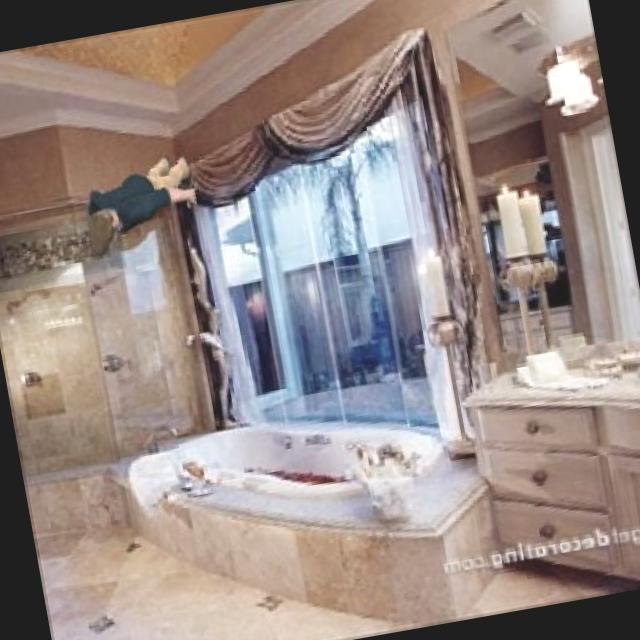Person: (73, 144, 209, 260)
